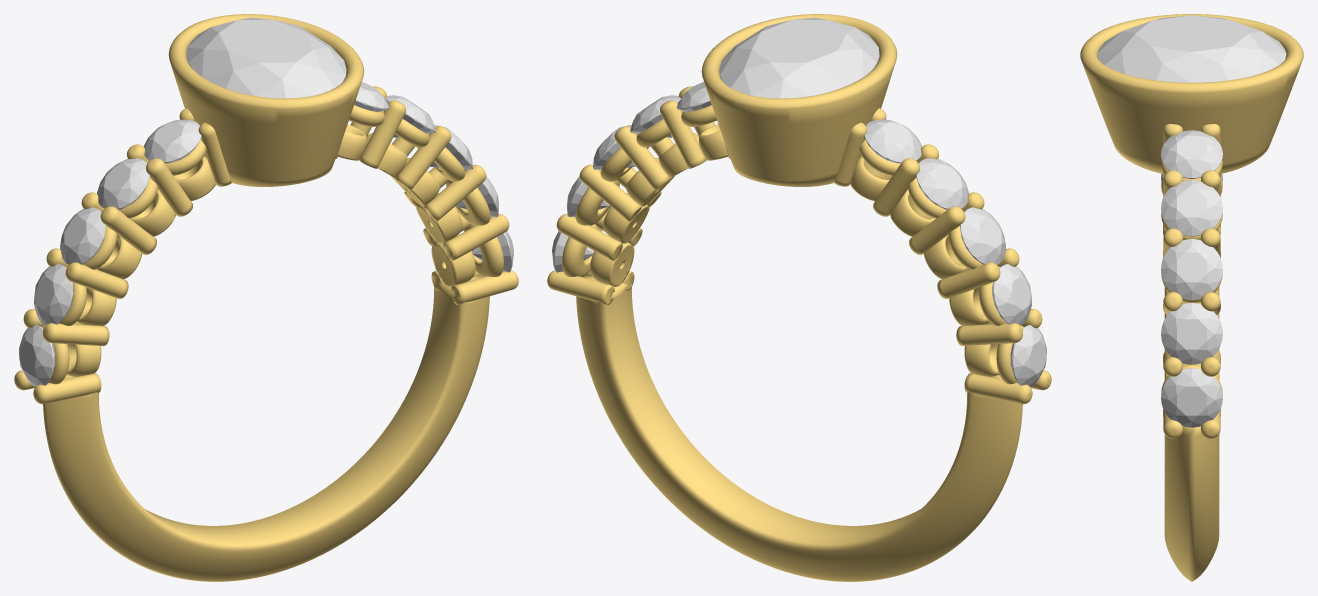
The model's file is diamond-oval-yellowgold-bezelset-knifeedge-11stone.glb.
3 views of the same model, side by side, from view 1: azimuth 30°, elevation 25°; view 2: azimuth 150°, elevation 25°; view 3: azimuth 270°, elevation 25° (orthographic).
Parts seen in each view (by area): view 1: metal, stone.002, side.022, side.023, side.021, side.024, side.020, side.028, side.029; view 2: metal, stone.002, side.022, side.023, side.021, side.024, side.020, side.028, side.029; view 3: metal, stone.002, side.026, side.027, side.025, side.028, side.029.
Part boxes in pixels (<box>): metal: <box>14,14,518,581</box>; stone.002: <box>186,17,346,98</box>; side.022: <box>60,207,105,264</box>; side.023: <box>97,158,149,209</box>; side.021: <box>34,264,73,325</box>; side.024: <box>143,119,201,163</box>; side.020: <box>19,325,55,386</box>; side.028: <box>385,95,435,137</box>; side.029: <box>354,82,389,111</box>; metal: <box>547,14,1051,581</box>; stone.002: <box>719,17,879,98</box>; side.022: <box>960,207,1005,264</box>; side.023: <box>916,158,968,209</box>; side.021: <box>992,264,1031,325</box>; side.024: <box>864,119,922,163</box>; side.020: <box>1010,325,1046,386</box>; side.028: <box>630,95,680,137</box>; side.029: <box>676,82,711,111</box>; metal: <box>1080,14,1303,581</box>; stone.002: <box>1097,15,1286,82</box>; side.026: <box>1161,303,1222,364</box>; side.027: <box>1161,239,1222,299</box>; side.025: <box>1161,368,1222,427</box>; side.028: <box>1161,180,1222,236</box>; side.029: <box>1161,130,1222,178</box>.
Bounding box in the file's own units: 22.05 × 23.4 × 9.04.
